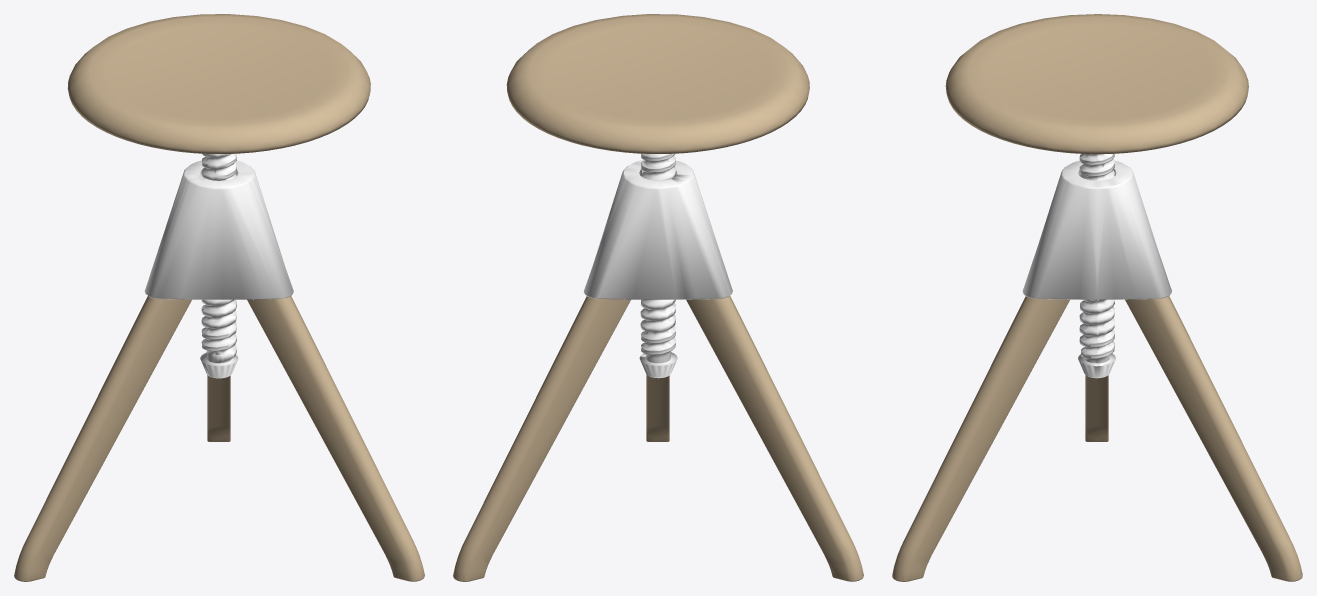
File: HMI_Tom_and_Jerry_Stool_3D.fbx
3 views of the same model, side by side, from view 1: azimuth 30°, elevation 25°; view 2: azimuth 150°, elevation 25°; view 3: azimuth 270°, elevation 25° (orthographic).
Parts seen in each view (by area): view 1: Group1; view 2: Group1; view 3: Group1.
Part boxes in pixels (x1,y1,x2,y2): Group1: [14, 14, 424, 581]; Group1: [453, 14, 863, 581]; Group1: [892, 14, 1302, 581].
Bounding box in the file's own units: 204 × 267 × 216.
